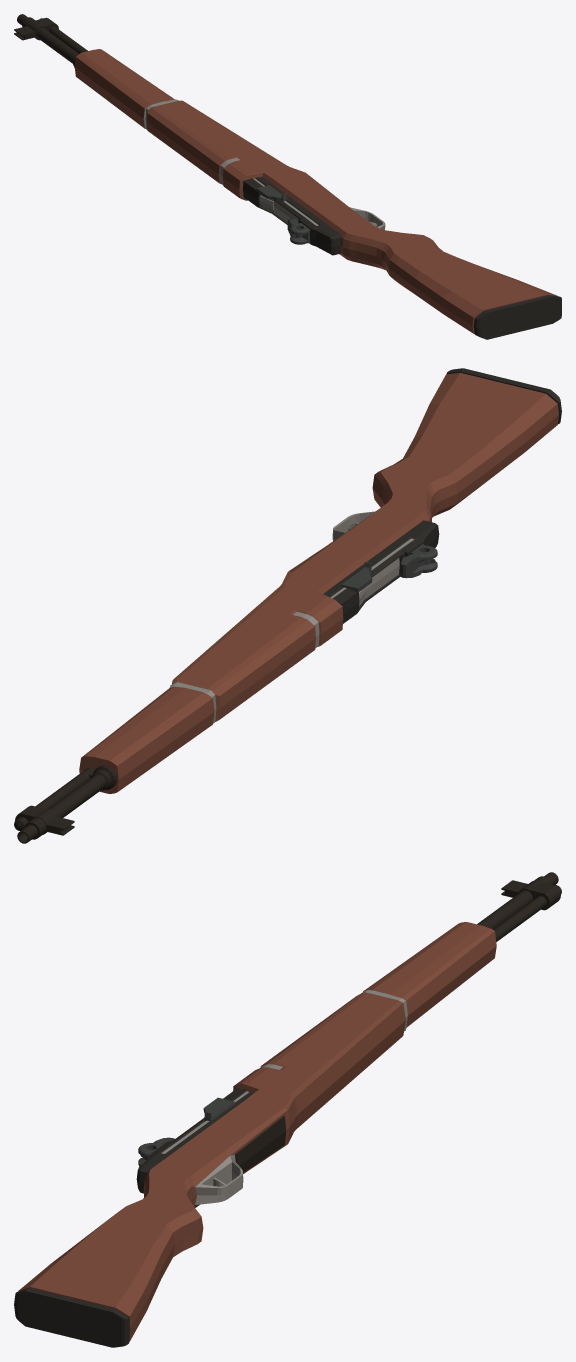
File: M1_Garrand.fbx
3 renders of one model, top to bottom at view 1: azimuth 30°, elevation 25°; view 2: azimuth 150°, elevation 25°; view 3: azimuth 330°, elevation 25°, orthographic. The views are drawn at different scales.
Visible parts, largest first — view 1: M1 Garrand; view 2: M1 Garrand; view 3: M1 Garrand.
Boxes of the visible parts, x1=… form: M1 Garrand: x1=14, y1=14, x2=561, y2=339; M1 Garrand: x1=14, y1=368, x2=561, y2=843; M1 Garrand: x1=14, y1=872, x2=561, y2=1347.
Bounding box in the file's own units: 82.49 × 17.35 × 472.
